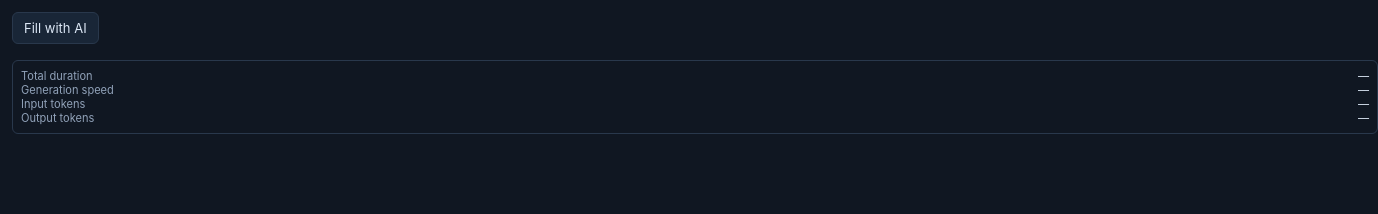
Test case: shows failures beside the button and preserves the draft
Click the button "Fill with AI". click: (55, 28)
box: [12, 12, 99, 44]
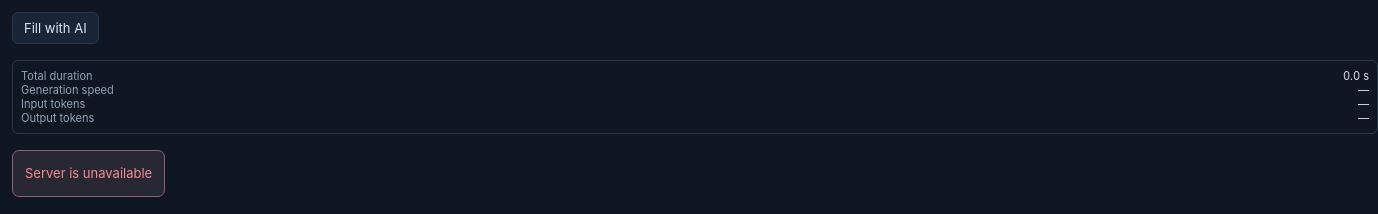
Check: the message reads "Server is unavailable", box [25, 165, 152, 181]
